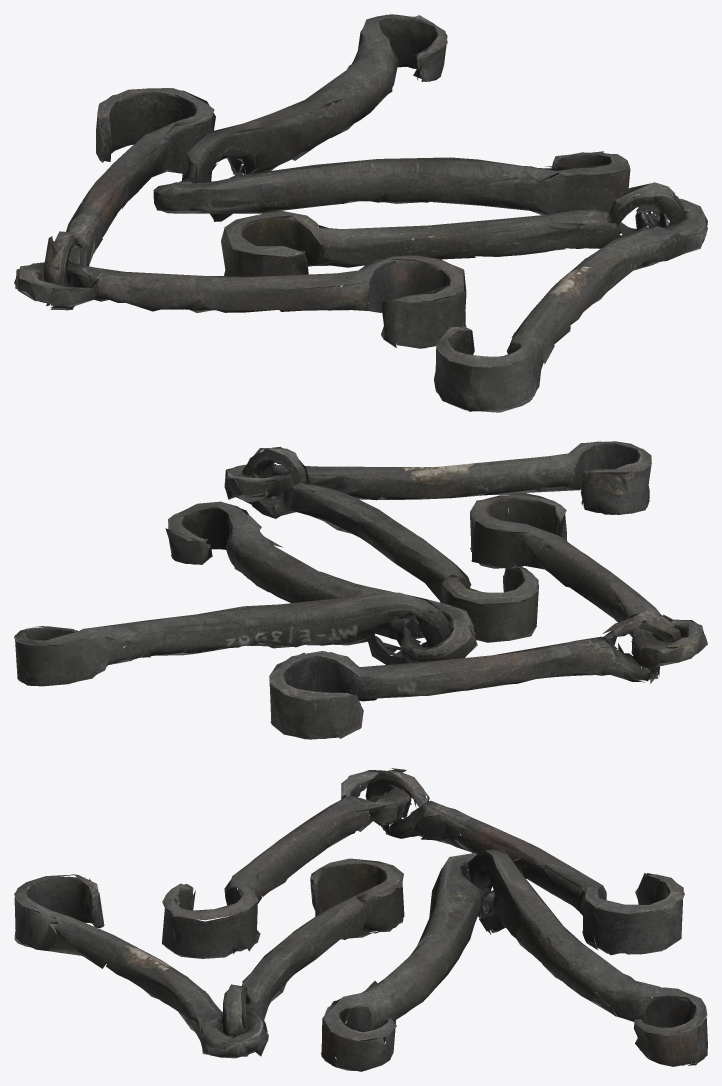
The model's file is horse_bit.glb.
The picture shows the model from 3 angles, top to bottom: view 1: azimuth 30°, elevation 25°; view 2: azimuth 150°, elevation 25°; view 3: azimuth 270°, elevation 25°; orthographic projection. The views are drawn at different scales.
Visible parts, largest first — view 1: Object_2; view 2: Object_2; view 3: Object_2.
Part boxes in pixels (x1,y1,x2,y2): Object_2: (14, 14, 707, 412); Object_2: (14, 441, 707, 739); Object_2: (14, 768, 707, 1071).
Size of the model in its own units: 38.96 by 5.47 by 43.78.
Materials: 1 (1 with a texture image).
